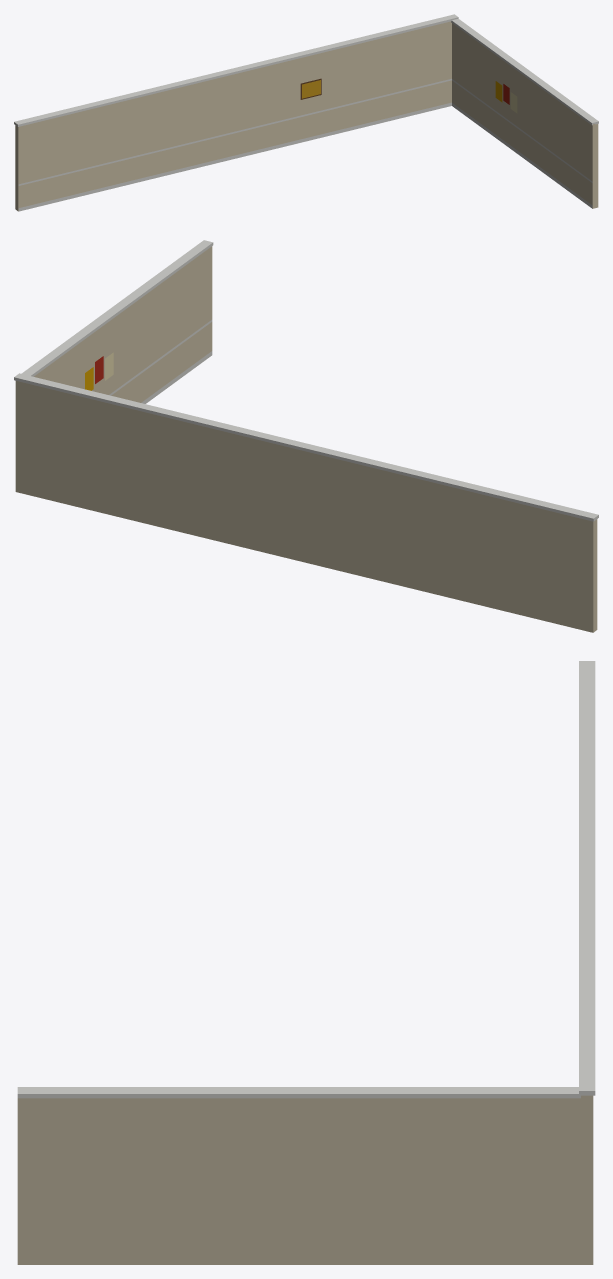
File: bld_room_abroad.3d7203eedec5.glb
3 views of the same model, one above another, from view 1: azimuth 30°, elevation 25°; view 2: azimuth 150°, elevation 25°; view 3: azimuth 270°, elevation 25° (orthographic). The views are drawn at different scales.
Parts seen in each view (by area): view 1: body; view 2: body; view 3: body.
Part boxes in pixels (bbox=[...]): body: bbox=[14, 14, 598, 211]; body: bbox=[14, 240, 598, 632]; body: bbox=[17, 661, 595, 1264].
Bounding box in the file's own units: 16.26 × 3.08 × 9.23.
